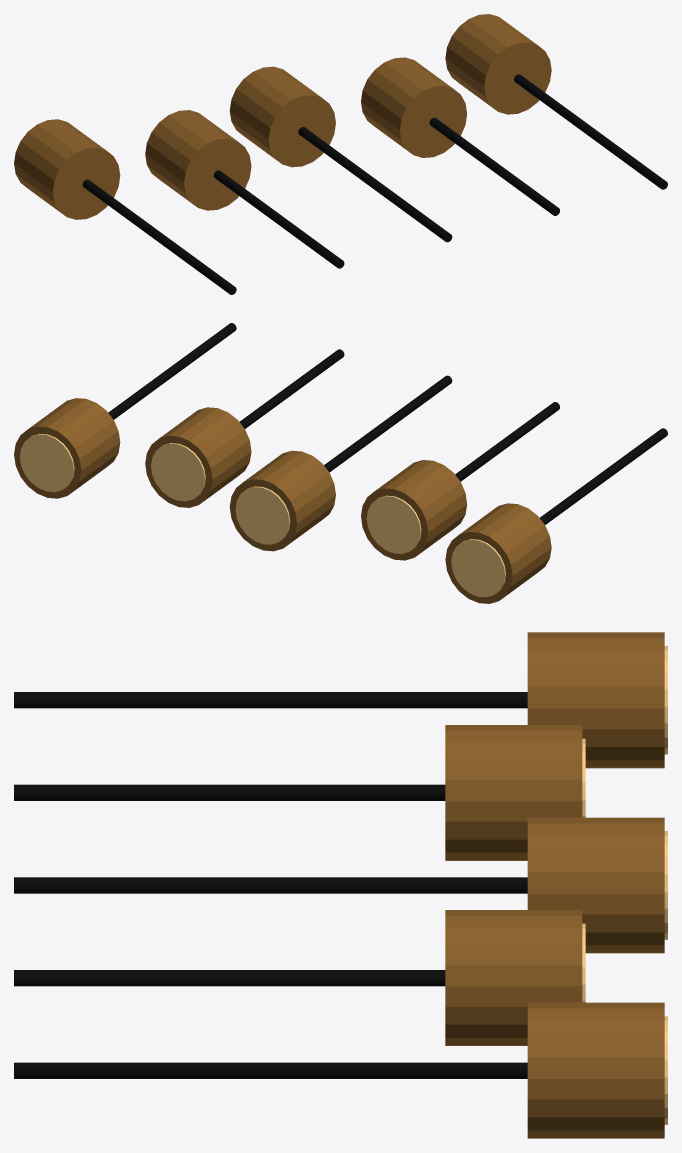
Rendered from dining_pendant.obj.
3 renders of one model, top to bottom at view 1: azimuth 30°, elevation 25°; view 2: azimuth 150°, elevation 25°; view 3: azimuth 270°, elevation 25°, orthographic. The views are drawn at different scales.
Visible parts, largest first — view 1: dining_pendant_brass, dining_pendant_frame; view 2: dining_pendant_brass, dining_pendant_glow, dining_pendant_frame; view 3: dining_pendant_brass, dining_pendant_frame, dining_pendant_glow.
Part boxes in pixels (box(x1,y1,x2,y2)): dining_pendant_brass: box(14, 14, 551, 219); dining_pendant_frame: box(82, 74, 667, 294); dining_pendant_brass: box(14, 398, 551, 603); dining_pendant_glow: box(19, 433, 505, 597); dining_pendant_frame: box(108, 323, 667, 524); dining_pendant_brass: box(445, 632, 664, 1138); dining_pendant_frame: box(14, 692, 527, 1078); dining_pendant_glow: box(582, 646, 667, 1124).
Size of the model in its own units: 74 by 10 by 47.75.
3 materials, 3 textured.
